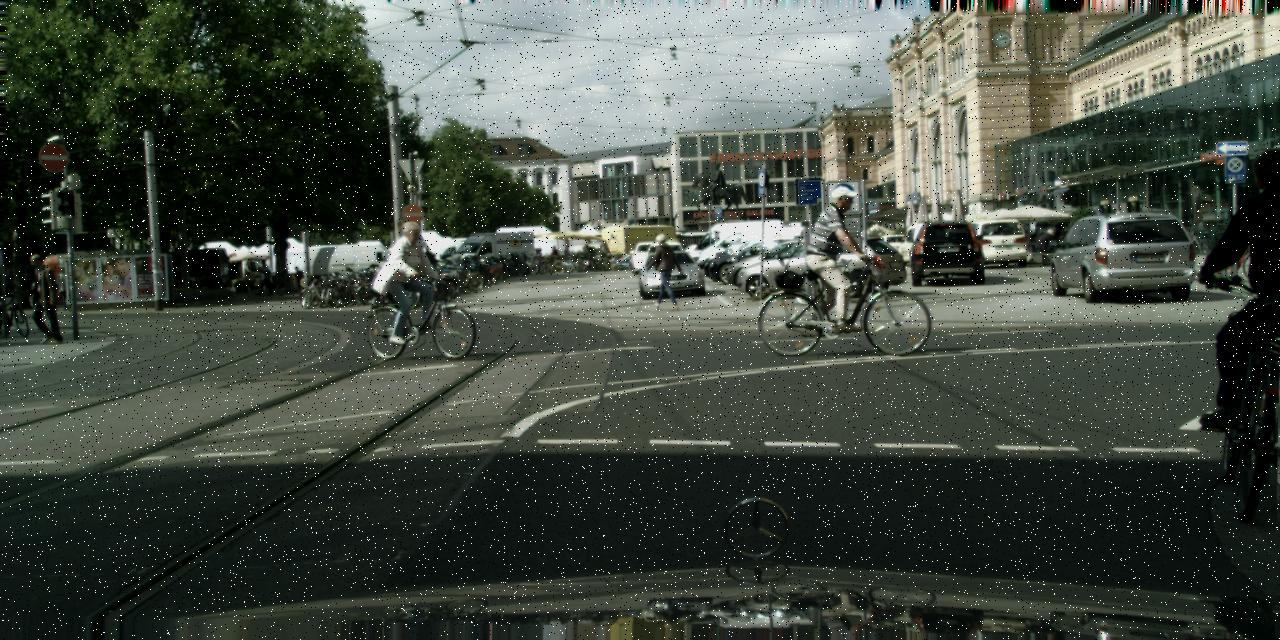ped: (1208, 147, 1279, 440), (804, 185, 864, 332), (389, 221, 436, 336), (26, 252, 62, 342), (647, 233, 678, 309), (54, 266, 72, 310), (258, 262, 270, 295), (294, 266, 304, 291), (550, 244, 558, 266), (582, 243, 589, 263)
